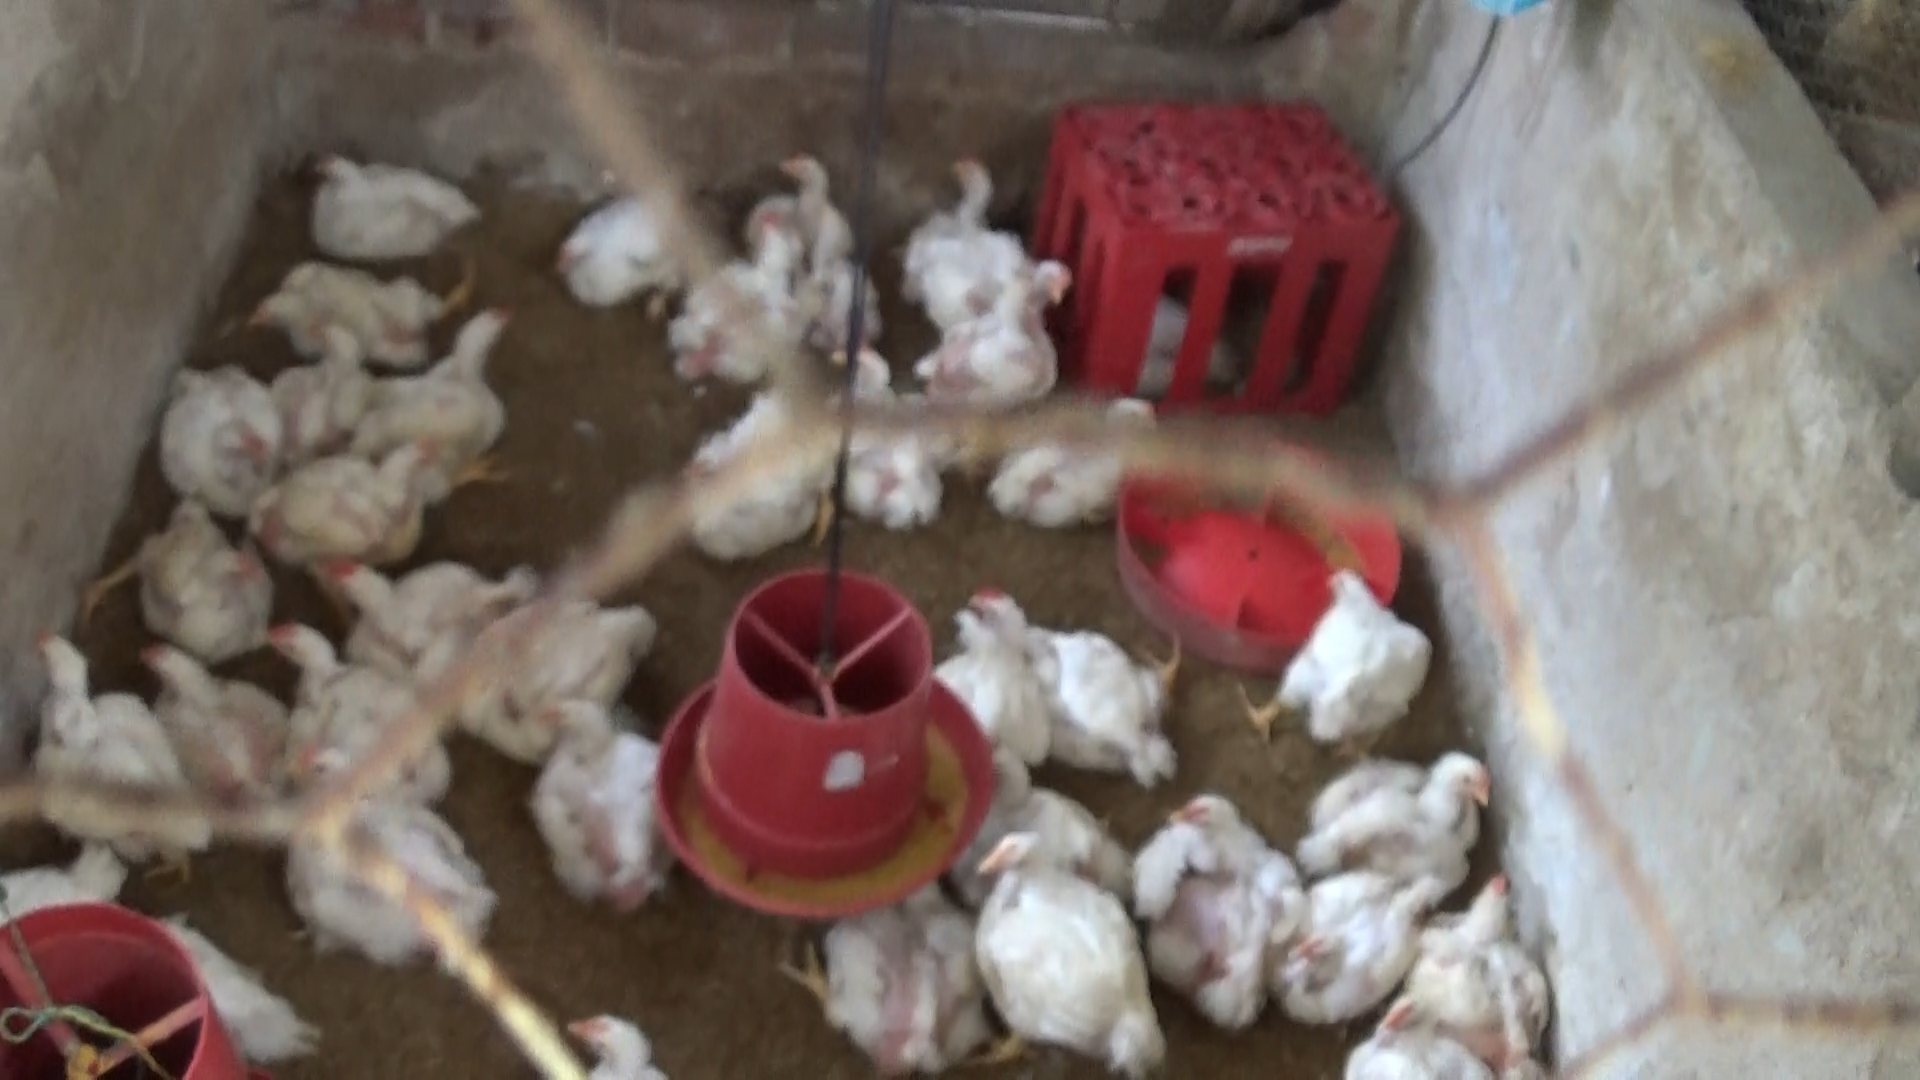Pollos: (274, 738, 501, 969), (968, 825, 1164, 1073), (18, 621, 196, 861), (967, 585, 1195, 773), (1134, 791, 1303, 1033), (793, 881, 980, 1080), (258, 616, 448, 800), (1273, 549, 1440, 756), (131, 641, 287, 833), (1258, 869, 1436, 1036), (1296, 738, 1497, 884), (535, 698, 669, 906), (375, 295, 527, 469), (239, 257, 477, 363), (256, 427, 442, 556), (916, 251, 1076, 401), (319, 539, 502, 669), (676, 207, 818, 375), (128, 489, 266, 658), (1416, 862, 1549, 1038), (897, 153, 1036, 307), (302, 142, 477, 264), (156, 360, 284, 498), (545, 179, 675, 311), (258, 318, 375, 448), (742, 148, 869, 256), (553, 1005, 665, 1080)
